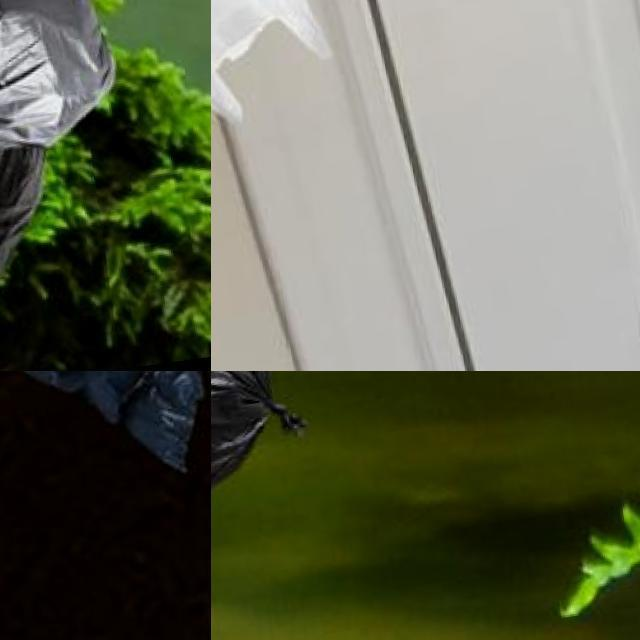waste: (0, 0, 127, 177), (0, 0, 64, 322), (211, 0, 345, 128), (211, 371, 315, 519), (115, 371, 211, 477), (63, 371, 154, 423)
